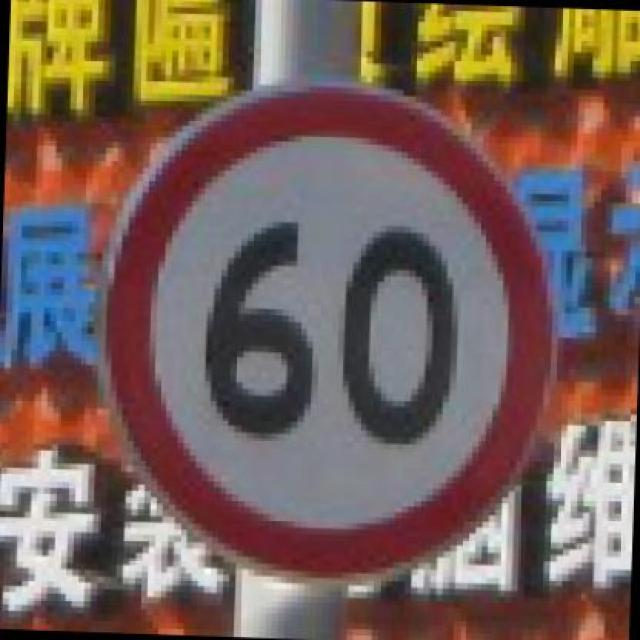Limite-60: (97, 78, 560, 587)
